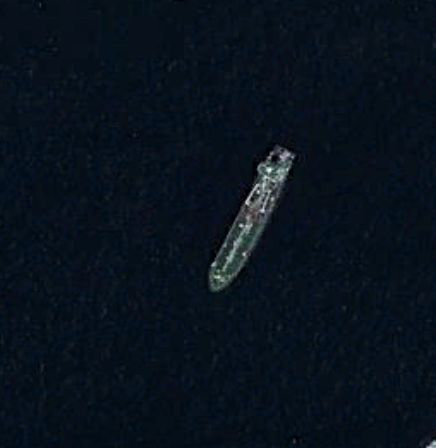boat: (208, 144, 295, 294)
